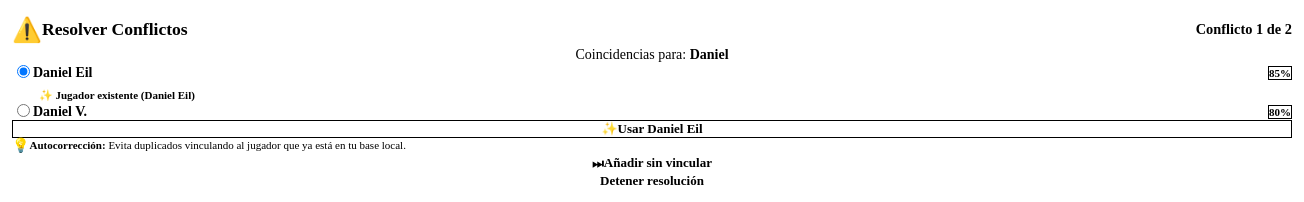
Test case: SyncResolutionModal (Grouped 1-to-N) › advances to the next group after making a decision
Note: Resolve "Daniel" by clicking "Usar Daniel Eil"
Click the button "✨ Usar Daniel Eil" at (652, 129), box [12,120,1292,138]
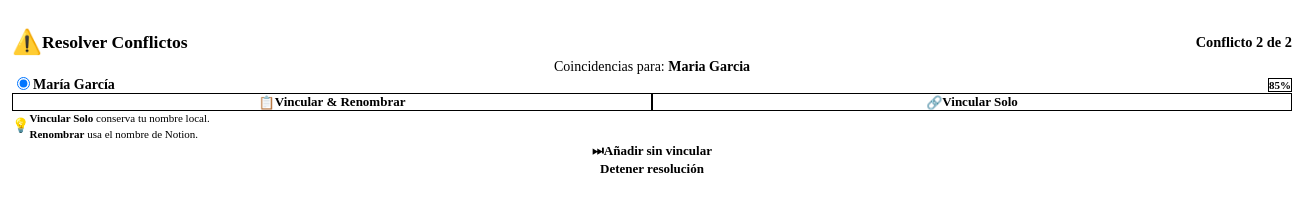
Result: the text "Conflicto 2 de 2" is shown at [1196,34,1292,51]
Result: the text "Coincidencias para: Maria Garcia" is shown at [554,59,750,74]
Result: the number of radio buttons is 1 at [17,77,30,90]
